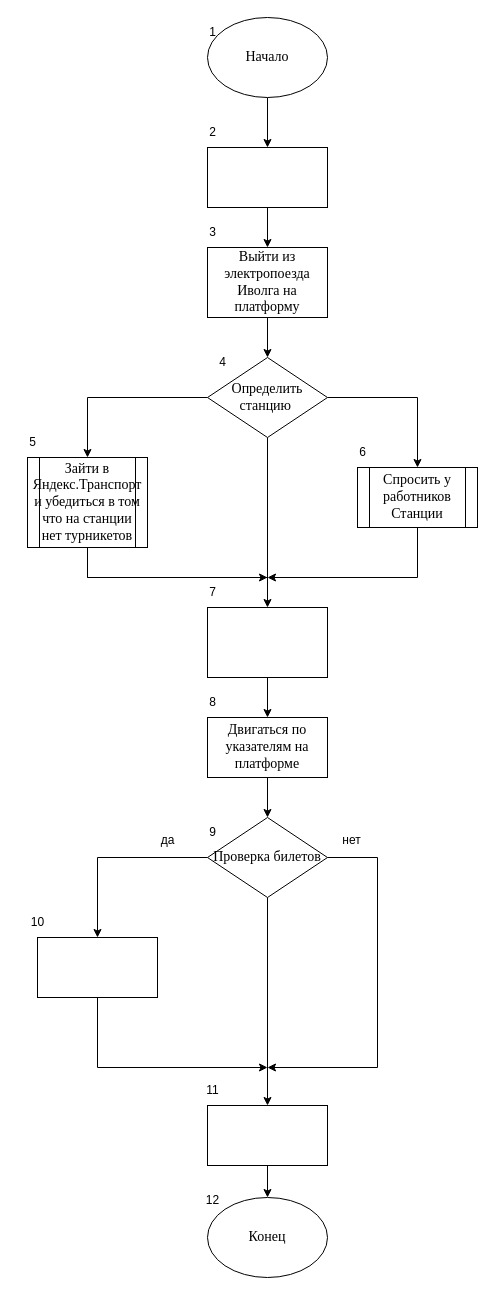
The diagram is 495 pixels wide and 1295 high, and some of its shapes have lost their labels. The shapes that lost their labels are listed below. From the top down, each one's centre as x and y in pixels, then its label:
At point (267, 177): "Дождаться остановки и открытия двери".
At point (267, 642): "Определить как выйти с платформы".
At point (97, 967): "Показать билет или курту тройку работнику станции".
At point (267, 1135): "Покинуть территорию станциии".
